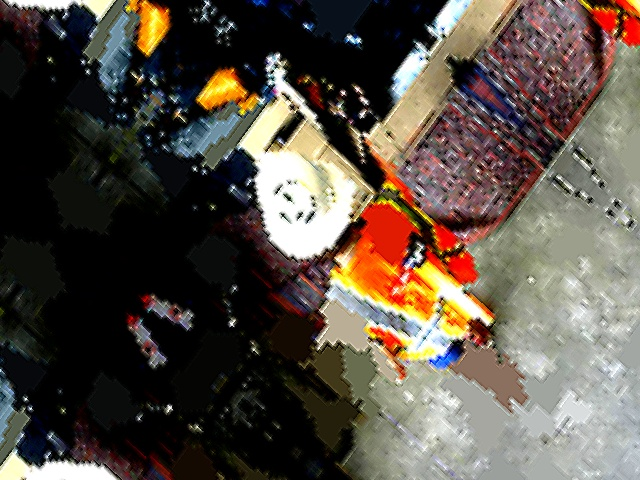one: (267, 173, 321, 231)
